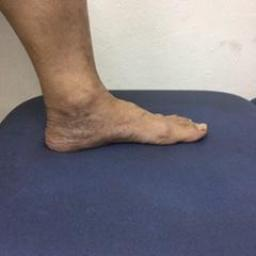Medial View -Left Foot-: (28, 62, 212, 159)
